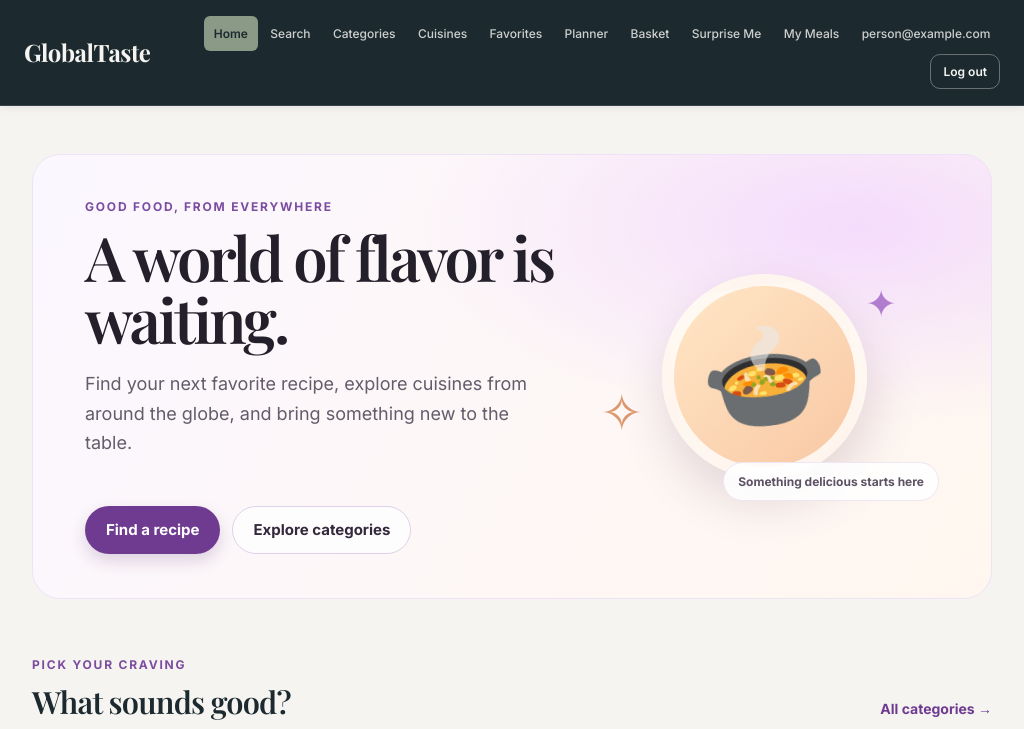
Test: session security › revokes the token on the server and clears stored data when logging out
Click the button "Log out" at (965, 72), box x1=930 y1=54 x2=1000 y2=89
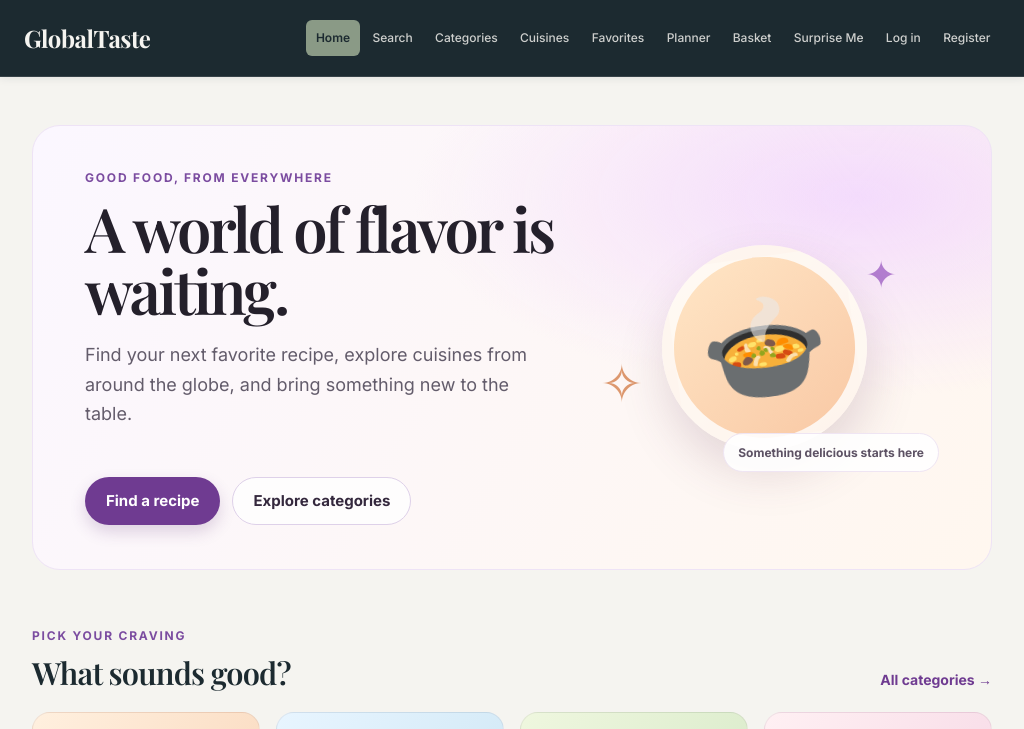
Now the link "Log in" is shown, box x1=886 y1=30 x2=921 y2=45
